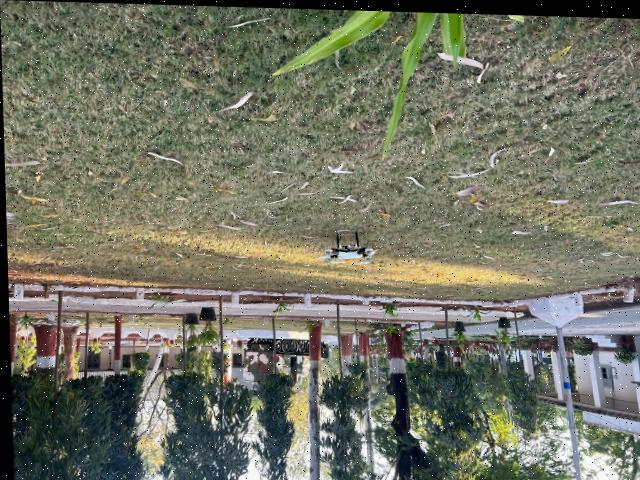drone: (299, 215, 388, 275)
